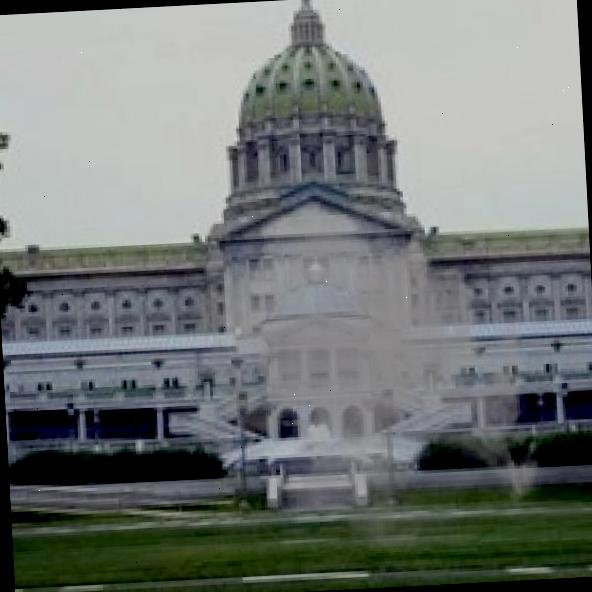smoke: (177, 184, 556, 580)
